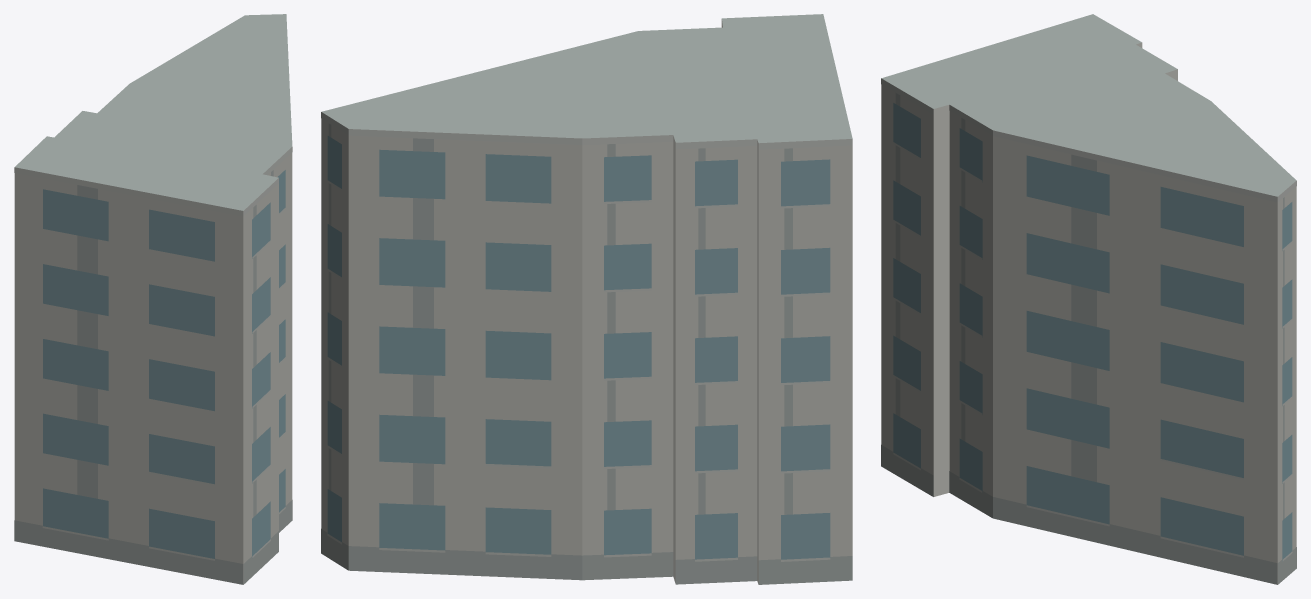
Rendered from survey-upis-32967681.glb.
3 views of the same model, side by side, from view 1: azimuth 30°, elevation 25°; view 2: azimuth 150°, elevation 25°; view 3: azimuth 270°, elevation 25° (orthographic). The views are drawn at different scales.
Parts seen in each view (by area): view 1: survey-upis-32967681.tmp; view 2: survey-upis-32967681.tmp; view 3: survey-upis-32967681.tmp.
Boxes of the visible parts, bbox=[...] form: survey-upis-32967681.tmp: bbox=[14, 14, 292, 584]; survey-upis-32967681.tmp: bbox=[321, 14, 852, 584]; survey-upis-32967681.tmp: bbox=[881, 14, 1296, 584].
Size of the model in its own units: 16.17 by 16 by 15.53.
